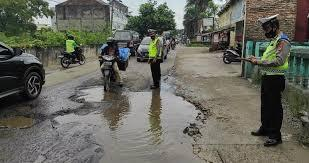Pothole: (45, 74, 227, 163), (0, 98, 44, 132)
